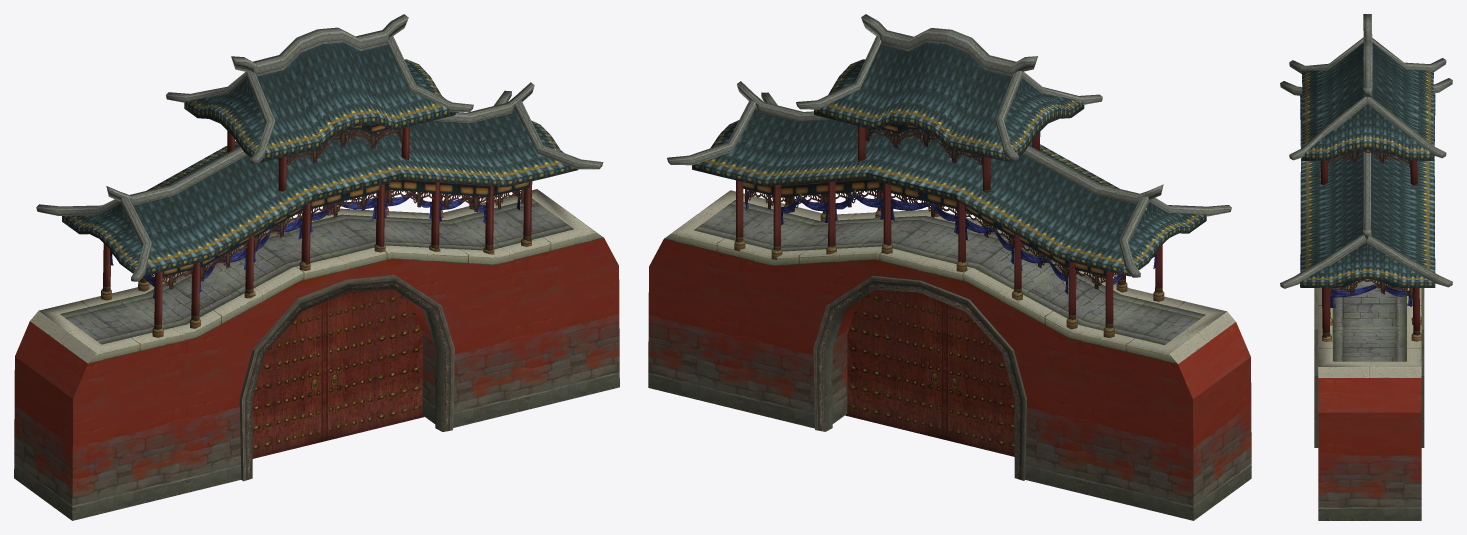
File: environment_Building_qingsangcheng_001_d.FBX
3 views of the same model, side by side, from view 1: azimuth 30°, elevation 25°; view 2: azimuth 150°, elevation 25°; view 3: azimuth 270°, elevation 25° (orthographic). The views are drawn at different scales.
Parts seen in each view (by area): view 1: environment_Building_qingsangcheng_001_d01, environment_Building_qingsangcheng_001_d04, environment_Building_qingsangcheng_001_d09, environment_Building_qingsangcheng_001_d06, environment_Building_qingsangcheng_001_d02, environment_Building_qingsangcheng_001_d03, environment_Building_qingsangcheng_001_d05, environment_Building_qingsangcheng_001_d08, environment_Building_qingsangcheng_001_d07; view 2: environment_Building_qingsangcheng_001_d01, environment_Building_qingsangcheng_001_d04, environment_Building_qingsangcheng_001_d09, environment_Building_qingsangcheng_001_d06, environment_Building_qingsangcheng_001_d02, environment_Building_qingsangcheng_001_d03, environment_Building_qingsangcheng_001_d05, environment_Building_qingsangcheng_001_d08, environment_Building_qingsangcheng_001_d07; view 3: environment_Building_qingsangcheng_001_d04, environment_Building_qingsangcheng_001_d01, environment_Building_qingsangcheng_001_d03, environment_Building_qingsangcheng_001_d06, environment_Building_qingsangcheng_001_d02, environment_Building_qingsangcheng_001_d05, environment_Building_qingsangcheng_001_d08.
Part boxes in pixels (x1=…): environment_Building_qingsangcheng_001_d01: x1=14, y1=238, x2=619, y2=520; environment_Building_qingsangcheng_001_d04: x1=62, y1=42, x2=578, y2=275; environment_Building_qingsangcheng_001_d09: x1=252, y1=289, x2=424, y2=458; environment_Building_qingsangcheng_001_d06: x1=60, y1=198, x2=573, y2=344; environment_Building_qingsangcheng_001_d02: x1=30, y1=189, x2=603, y2=363; environment_Building_qingsangcheng_001_d03: x1=36, y1=14, x2=603, y2=281; environment_Building_qingsangcheng_001_d05: x1=101, y1=126, x2=532, y2=337; environment_Building_qingsangcheng_001_d08: x1=110, y1=128, x2=524, y2=298; environment_Building_qingsangcheng_001_d07: x1=122, y1=124, x2=529, y2=276; environment_Building_qingsangcheng_001_d01: x1=648, y1=239, x2=1251, y2=520; environment_Building_qingsangcheng_001_d04: x1=692, y1=41, x2=1206, y2=276; environment_Building_qingsangcheng_001_d09: x1=845, y1=289, x2=1014, y2=456; environment_Building_qingsangcheng_001_d06: x1=694, y1=200, x2=1205, y2=345; environment_Building_qingsangcheng_001_d02: x1=664, y1=190, x2=1235, y2=364; environment_Building_qingsangcheng_001_d03: x1=667, y1=14, x2=1231, y2=277; environment_Building_qingsangcheng_001_d05: x1=734, y1=126, x2=1164, y2=337; environment_Building_qingsangcheng_001_d08: x1=745, y1=128, x2=1156, y2=294; environment_Building_qingsangcheng_001_d07: x1=743, y1=124, x2=1146, y2=276; environment_Building_qingsangcheng_001_d04: x1=1300, y1=42, x2=1435, y2=287; environment_Building_qingsangcheng_001_d01: x1=1314, y1=288, x2=1424, y2=520; environment_Building_qingsangcheng_001_d03: x1=1280, y1=14, x2=1452, y2=288; environment_Building_qingsangcheng_001_d06: x1=1332, y1=229, x2=1406, y2=361; environment_Building_qingsangcheng_001_d02: x1=1318, y1=287, x2=1421, y2=377; environment_Building_qingsangcheng_001_d05: x1=1320, y1=160, x2=1421, y2=341; environment_Building_qingsangcheng_001_d08: x1=1328, y1=151, x2=1412, y2=307.
Bounding box in the file's own units: 1939 × 598 × 1368.
Materials: 9 (9 with a texture image).
